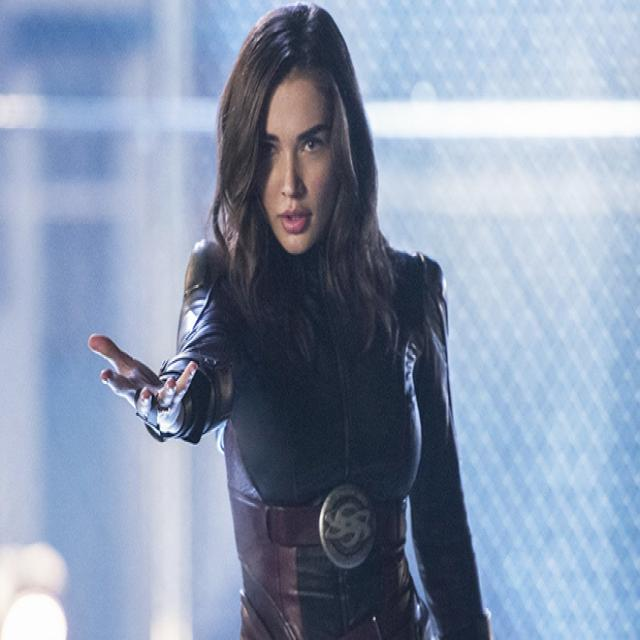human: (88, 19, 488, 640)
